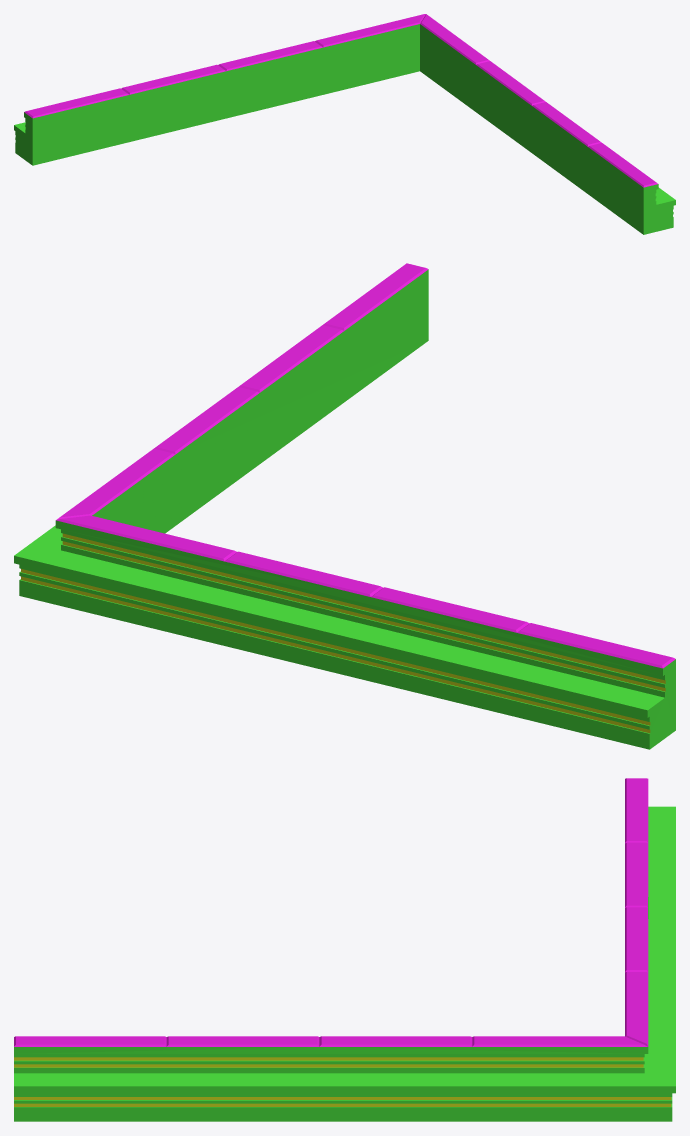
The model's file is Floor_10_Deco_Corner.fbx.
3 renders of one model, top to bottom at view 1: azimuth 30°, elevation 25°; view 2: azimuth 150°, elevation 25°; view 3: azimuth 270°, elevation 25°, orthographic. The views are drawn at different scales.
Visible parts, largest first — view 1: Floor_10_Deco_Corner; view 2: Floor_10_Deco_Corner; view 3: Floor_10_Deco_Corner.
Part boxes in pixels (x1,y1,x2,y2): Floor_10_Deco_Corner: (14, 14, 675, 234); Floor_10_Deco_Corner: (14, 263, 675, 749); Floor_10_Deco_Corner: (14, 778, 675, 1121).
Size of the model in its own units: 495 by 54.62 by 495.
